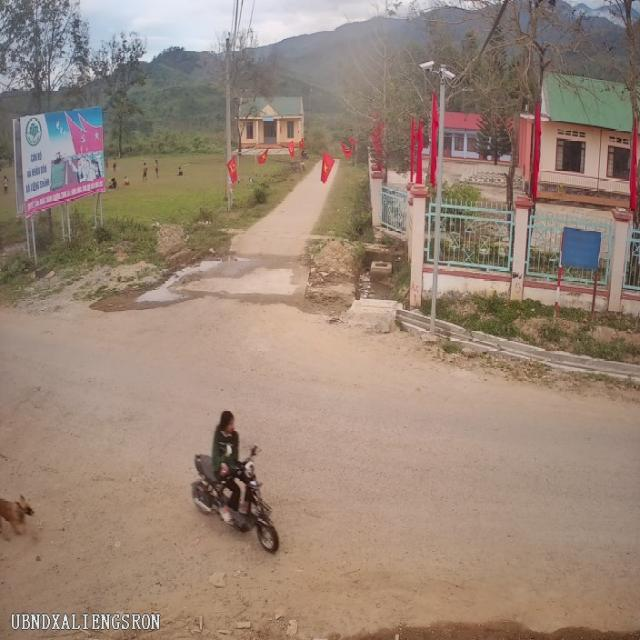no_helmet: (215, 407, 240, 448)
